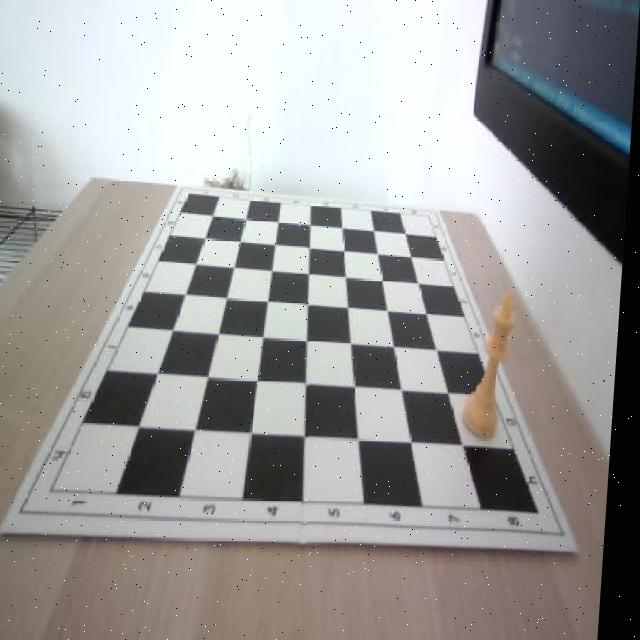white-bishop: (468, 291, 523, 438)
